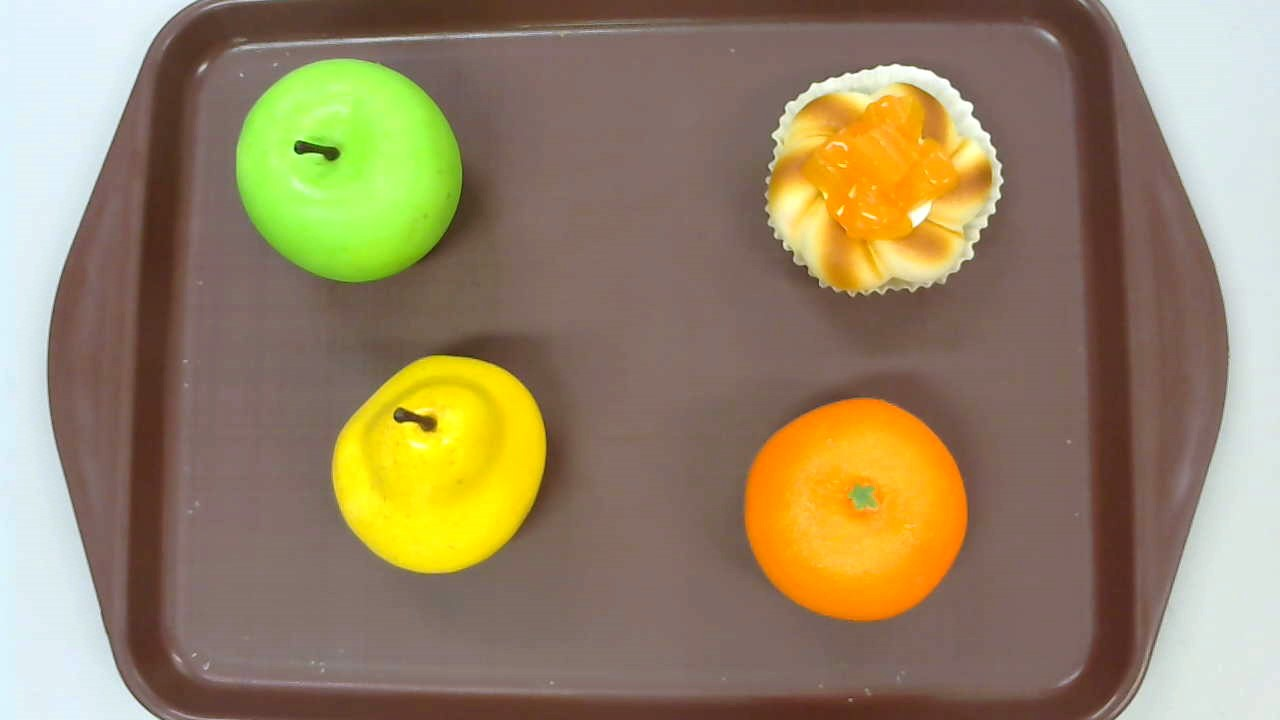green apple: (235, 59, 461, 284)
mango tart: (762, 63, 1007, 300)
orange: (742, 396, 967, 619)
yellow pear: (330, 353, 548, 572)
